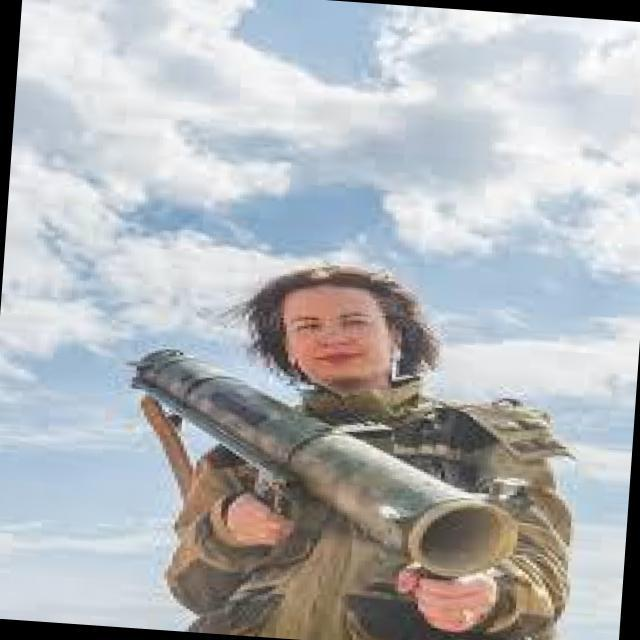rocket: (119, 341, 524, 578)
